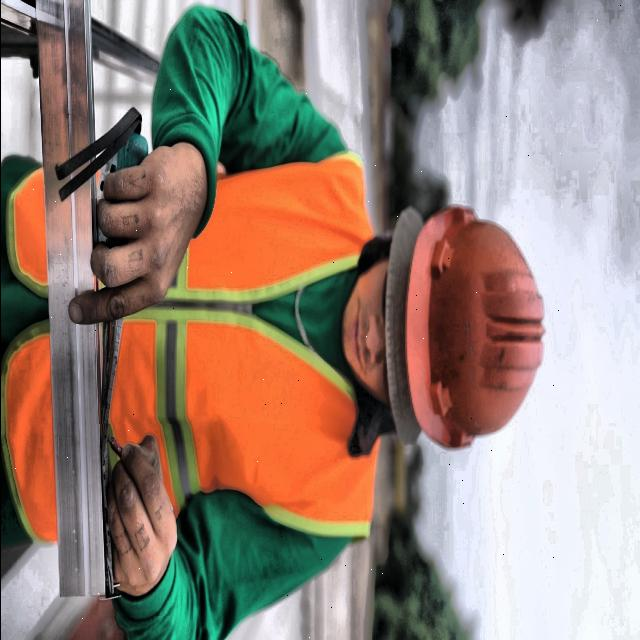not-gloved: (63, 126, 208, 378), (92, 424, 176, 616)
